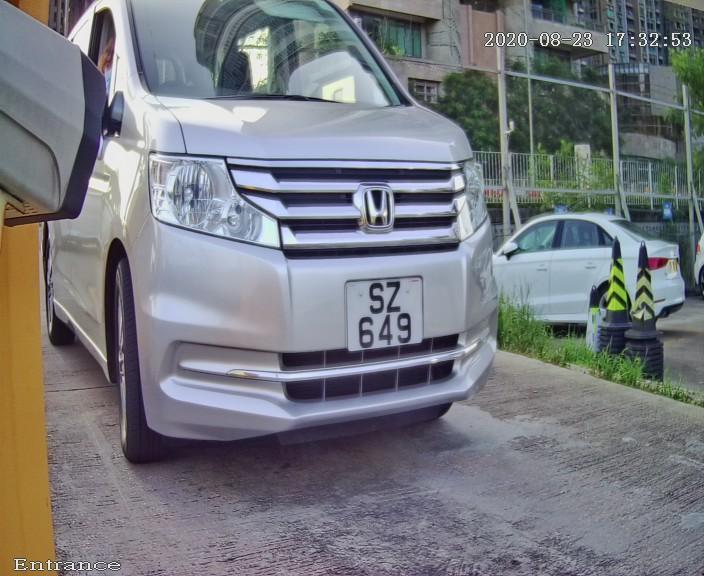Car: (51, 1, 560, 469)
License Plate: (331, 258, 437, 366)
